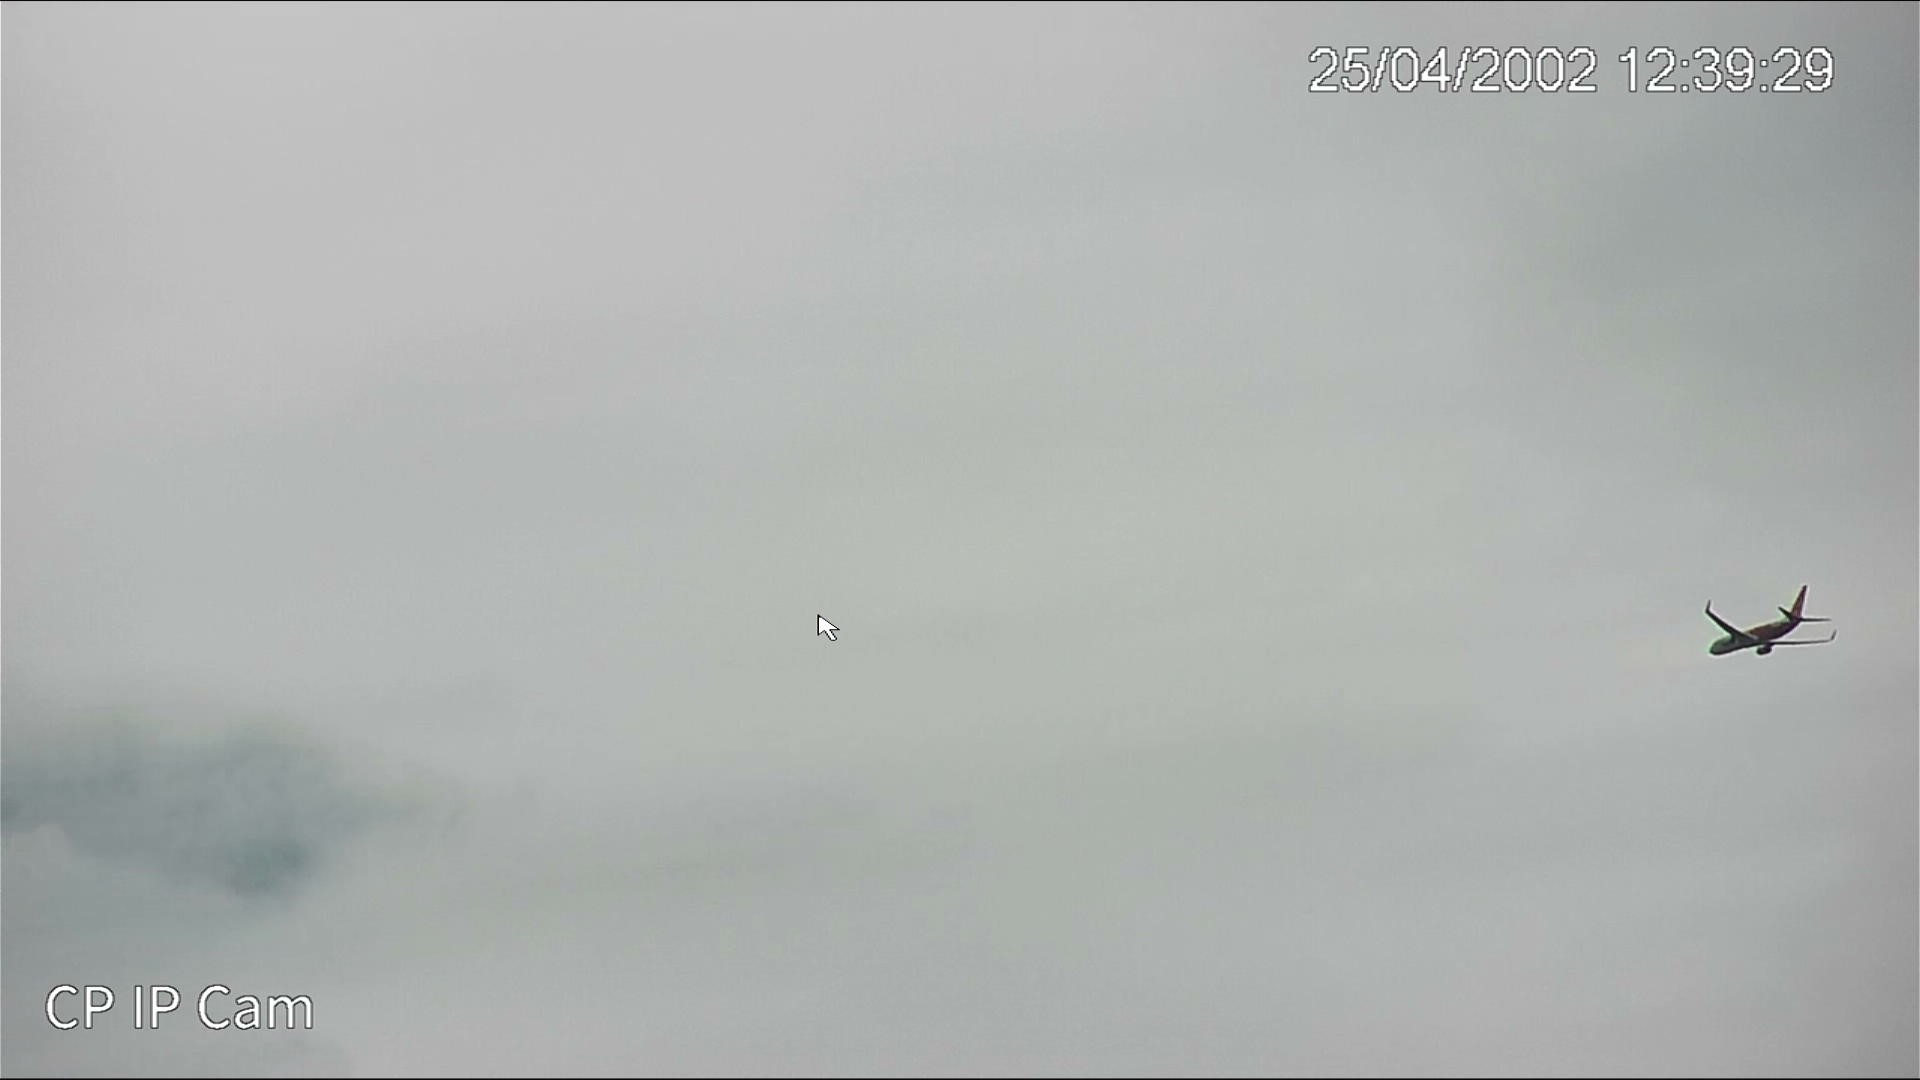SU_30: (1702, 591, 1844, 655)
